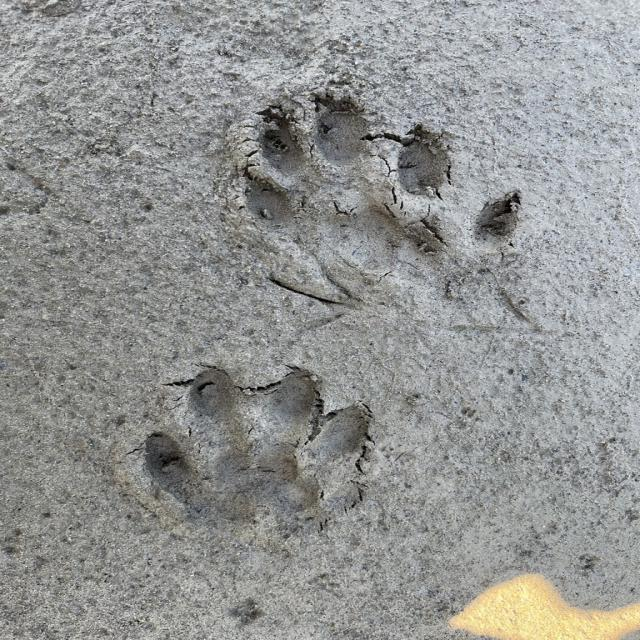mustelid: (237, 90, 528, 316), (147, 364, 372, 540)
